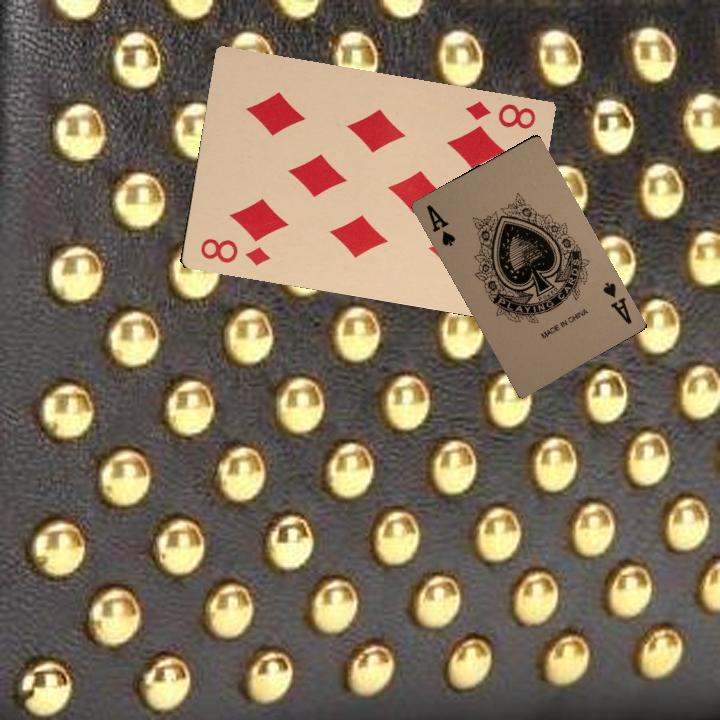8d: (461, 97, 539, 132), (196, 234, 273, 268)
As: (422, 200, 458, 248), (599, 278, 634, 327)
